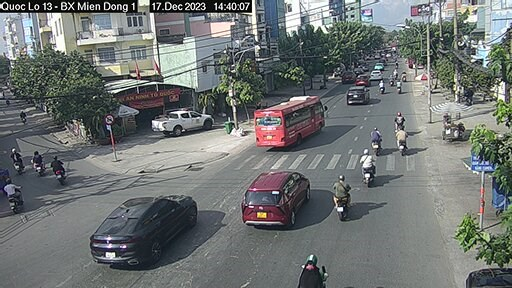bus: (257, 96, 325, 146)
car: (96, 193, 195, 265), (245, 171, 309, 225), (150, 108, 215, 135), (345, 85, 370, 104), (355, 73, 368, 88), (370, 70, 383, 83), (373, 62, 385, 74)
motorbike: (330, 177, 355, 221), (359, 149, 379, 190), (4, 179, 23, 210), (50, 153, 70, 181), (392, 131, 412, 158), (369, 125, 385, 156)
